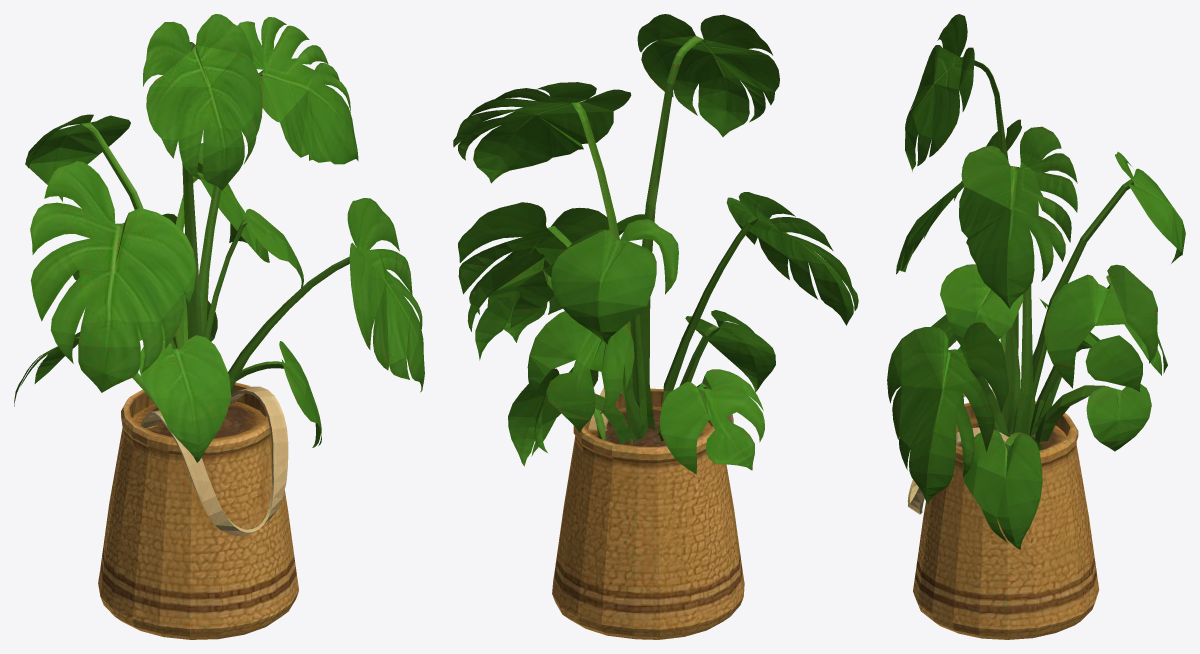
File: plant.glb
The picture shows the model from 3 angles, left to right: view 1: azimuth 30°, elevation 25°; view 2: azimuth 150°, elevation 25°; view 3: azimuth 270°, elevation 25°; orthographic projection. The views are drawn at different scales.
Visible parts, largest first — view 1: tripo_node_31288665-88fe-40f7-a078-e2a7c5421e73; view 2: tripo_node_31288665-88fe-40f7-a078-e2a7c5421e73; view 3: tripo_node_31288665-88fe-40f7-a078-e2a7c5421e73.
Boxes of the visible parts, box(x1,y1,x2,y2) form: tripo_node_31288665-88fe-40f7-a078-e2a7c5421e73: box(14, 14, 424, 639); tripo_node_31288665-88fe-40f7-a078-e2a7c5421e73: box(453, 14, 858, 639); tripo_node_31288665-88fe-40f7-a078-e2a7c5421e73: box(887, 14, 1185, 639).
Size of the model in its own units: 0.6724 by 0.9995 by 0.48.
Materials: 1 (1 with a texture image).
